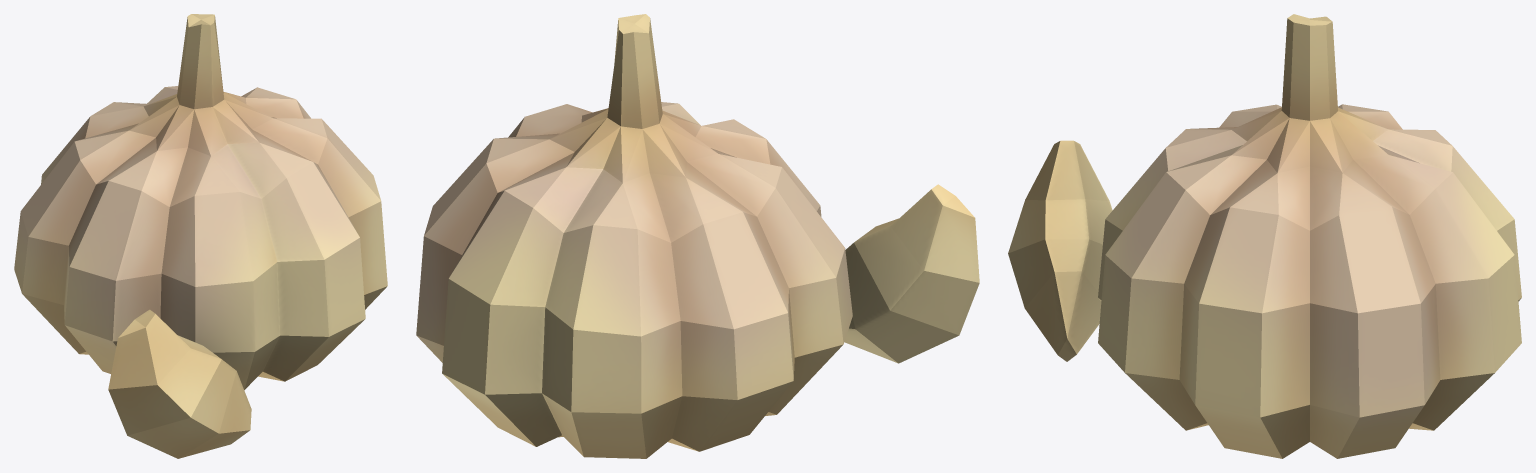
Rendered from garlic-harvest.glb.
3 renders of one model, left to right at view 1: azimuth 30°, elevation 25°; view 2: azimuth 150°, elevation 25°; view 3: azimuth 270°, elevation 25°, orthographic. The views are drawn at different scales.
Visible parts, largest first — view 1: Garlic_mesh; view 2: Garlic_mesh; view 3: Garlic_mesh.
Part boxes in pixels (x1,y1,x2,y2): Garlic_mesh: (14, 14, 387, 458); Garlic_mesh: (416, 14, 979, 458); Garlic_mesh: (1008, 14, 1521, 458).
Bounding box in the file's own units: 0.9198 × 0.8411 × 1.
1 material, 1 textured.
